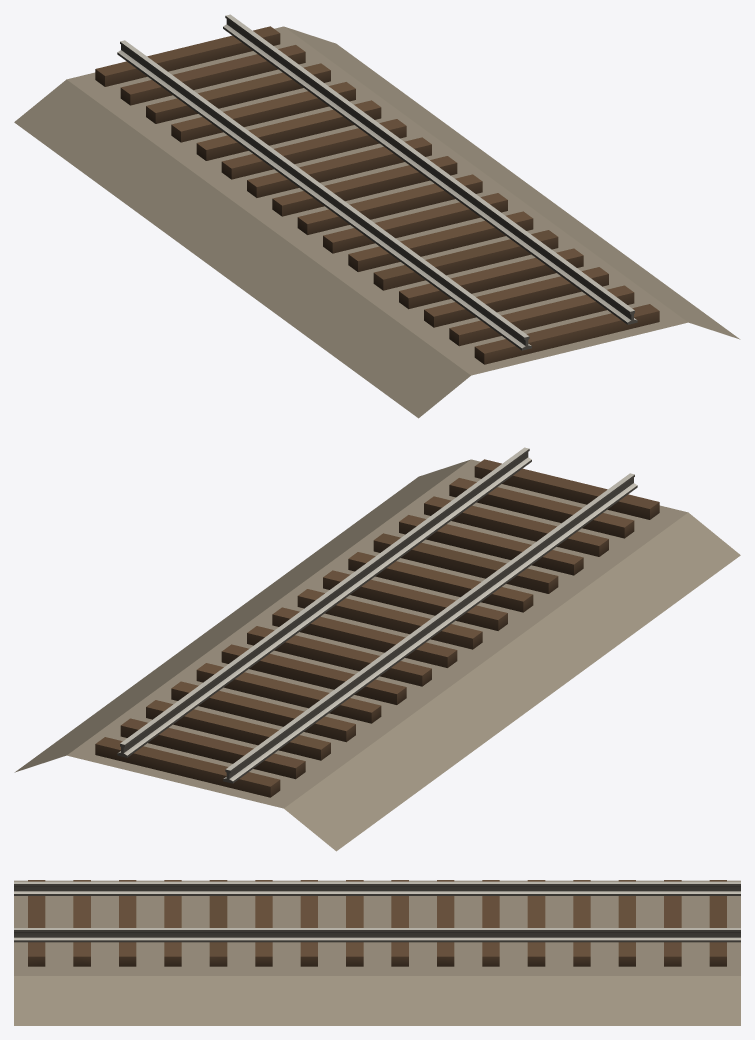
Rendered from rail_track_straight.glb.
The picture shows the model from 3 angles, top to bottom: view 1: azimuth 30°, elevation 25°; view 2: azimuth 150°, elevation 25°; view 3: azimuth 270°, elevation 25°; orthographic projection. The views are drawn at different scales.
Visible parts, largest first — view 1: rail_track_straight_mesh; view 2: rail_track_straight_mesh; view 3: rail_track_straight_mesh.
Part boxes in pixels (box(x1,y1,x2,y2)): rail_track_straight_mesh: box(14, 14, 740, 418); rail_track_straight_mesh: box(14, 447, 740, 851); rail_track_straight_mesh: box(14, 880, 740, 1025).
Size of the model in its own units: 4.6 by 0.75 by 10.
